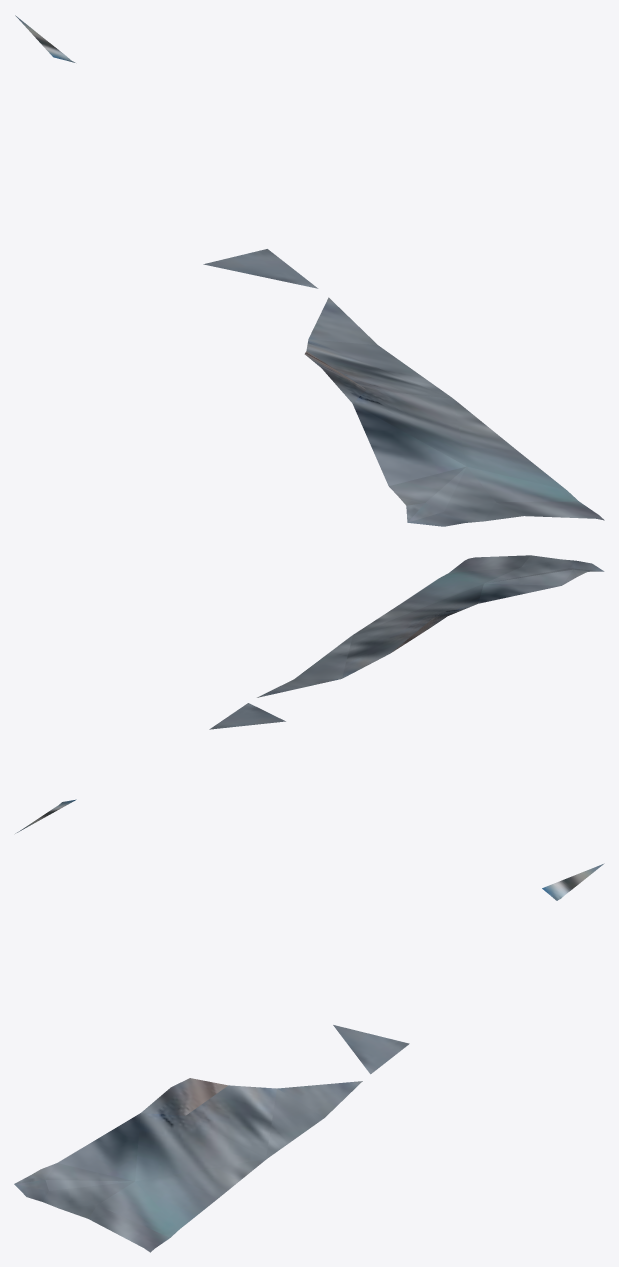
The picture shows the model from 3 angles, top to bottom: view 1: azimuth 30°, elevation 25°; view 2: azimuth 150°, elevation 25°; view 3: azimuth 330°, elevation 25°; orthographic projection. The views are drawn at different scales.
Size of the model in its own units: 0.1388 by 0.0568 by 0.7576.
1 material, 1 textured.
